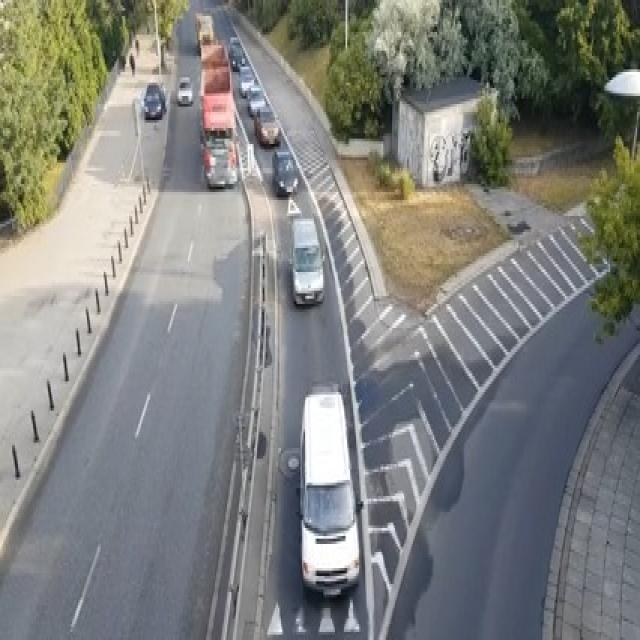bus: (298, 382, 360, 598)
car: (288, 216, 324, 307), (203, 136, 237, 187), (252, 104, 280, 147), (272, 149, 297, 195), (141, 80, 165, 120), (194, 11, 213, 48), (246, 82, 266, 114), (239, 64, 255, 96), (176, 75, 192, 104), (228, 46, 245, 70)
